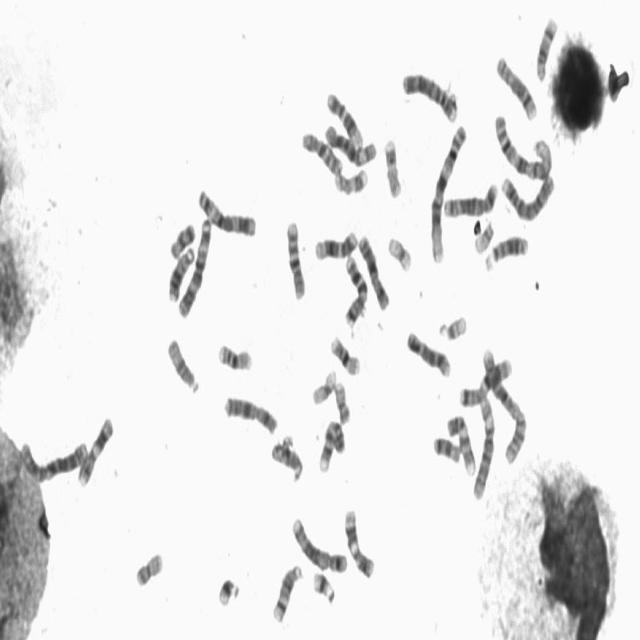A1: (428, 120, 468, 266), (492, 109, 554, 182)
A2: (479, 343, 528, 464), (18, 432, 90, 484)
A3: (176, 212, 214, 320), (195, 182, 258, 239)
B4: (399, 65, 459, 124), (498, 166, 558, 223)
B5: (289, 512, 349, 575), (441, 177, 500, 219)
C10: (299, 126, 344, 177), (284, 216, 308, 302)
C11: (75, 411, 115, 489), (342, 503, 376, 580)
C12: (324, 85, 364, 148), (312, 224, 359, 262)
C6: (469, 391, 496, 502), (322, 118, 378, 168)
C7: (456, 350, 514, 409), (342, 250, 369, 327)
C8: (494, 50, 540, 122), (405, 332, 452, 381)
C9: (444, 408, 478, 476), (316, 415, 347, 474)
D13: (482, 229, 530, 272), (165, 241, 196, 304)
D14: (270, 558, 304, 625), (534, 11, 559, 83)
D15: (165, 332, 201, 396), (269, 437, 305, 484)
E16: (328, 330, 362, 377), (215, 337, 254, 373)
E17: (382, 133, 403, 200), (332, 162, 369, 197)
E18: (167, 217, 197, 261), (431, 430, 461, 465)
F19: (386, 231, 414, 273), (310, 364, 338, 406)
F20: (133, 545, 165, 588), (332, 377, 352, 425)
G21: (310, 566, 337, 607), (215, 570, 242, 608)
G22: (437, 309, 469, 342), (471, 214, 495, 256)
X: (356, 229, 391, 312), (221, 390, 279, 437)
